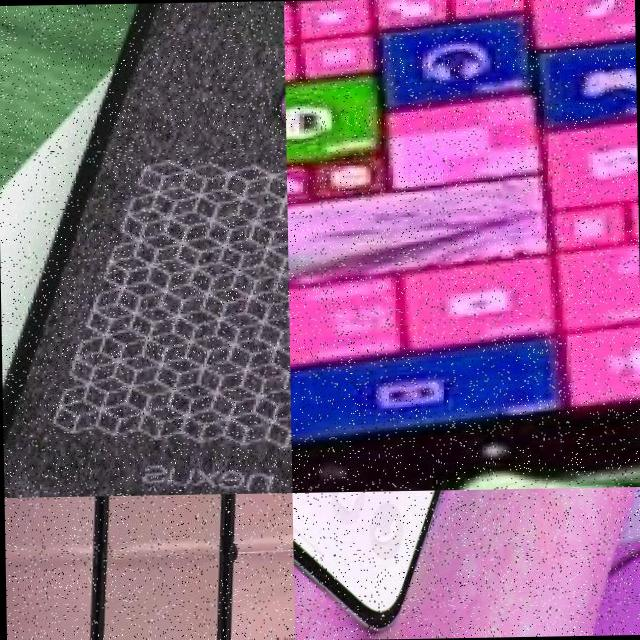dead pixel: (217, 528, 250, 570), (78, 538, 95, 574)
